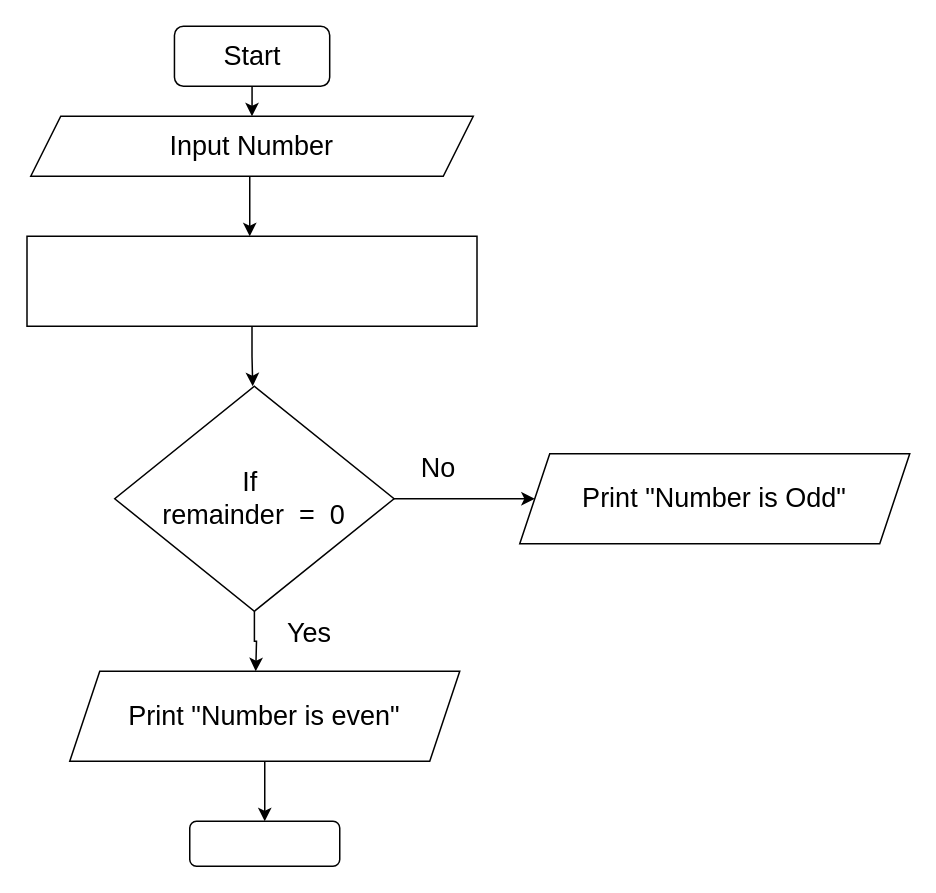
Some shapes in this 936 by 893 pixel diagram are drawn without their labels. The shapes that lost their labels are listed below. From the top down, each one's box as (x1, y1, x2, y2) in pixels, then its label:
(26, 235, 477, 326): remainder = Number % 2
(188, 820, 340, 866): End
